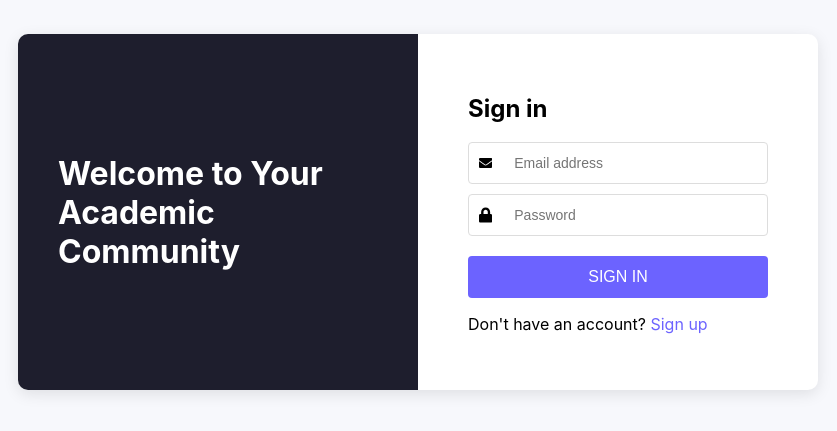
StudentLogin › displays a general error message when there is a fetch error
# Simulate user input
Type "test@example.com" into the field with placeholder "Email address" at {"x": 630, "y": 163}, box left=502, top=143, right=757, bottom=183
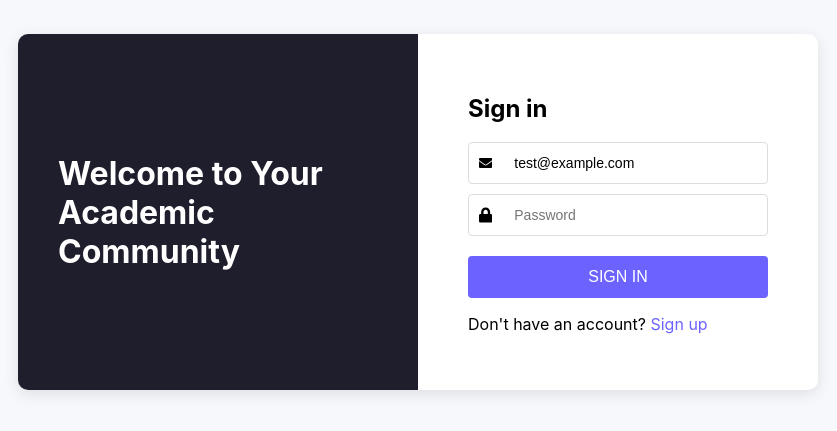
Type "password123" into the password field with placeholder "Password" at {"x": 630, "y": 215}, box left=502, top=195, right=757, bottom=235
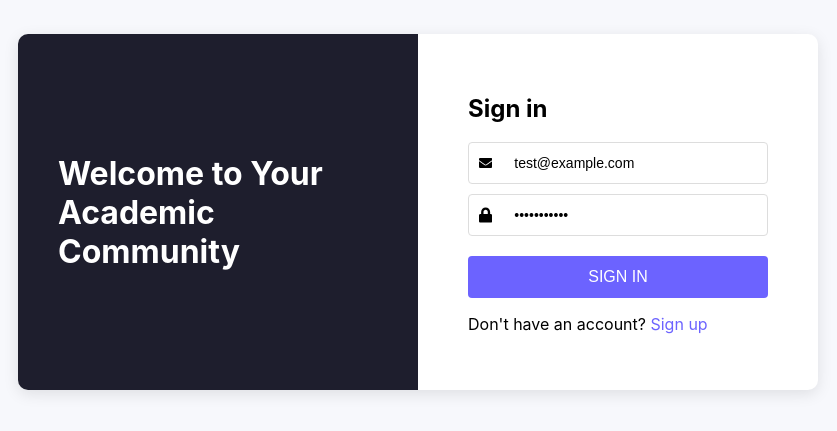
# Simulate form submission
Click the button "SIGN IN" at {"x": 618, "y": 277}, box left=468, top=256, right=768, bottom=298
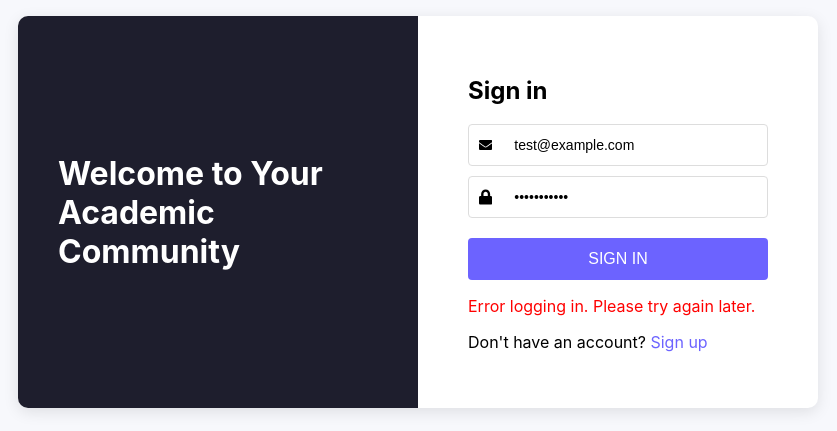
Check: the text "Error logging in. Please try again later." is shown, box left=468, top=296, right=768, bottom=316
